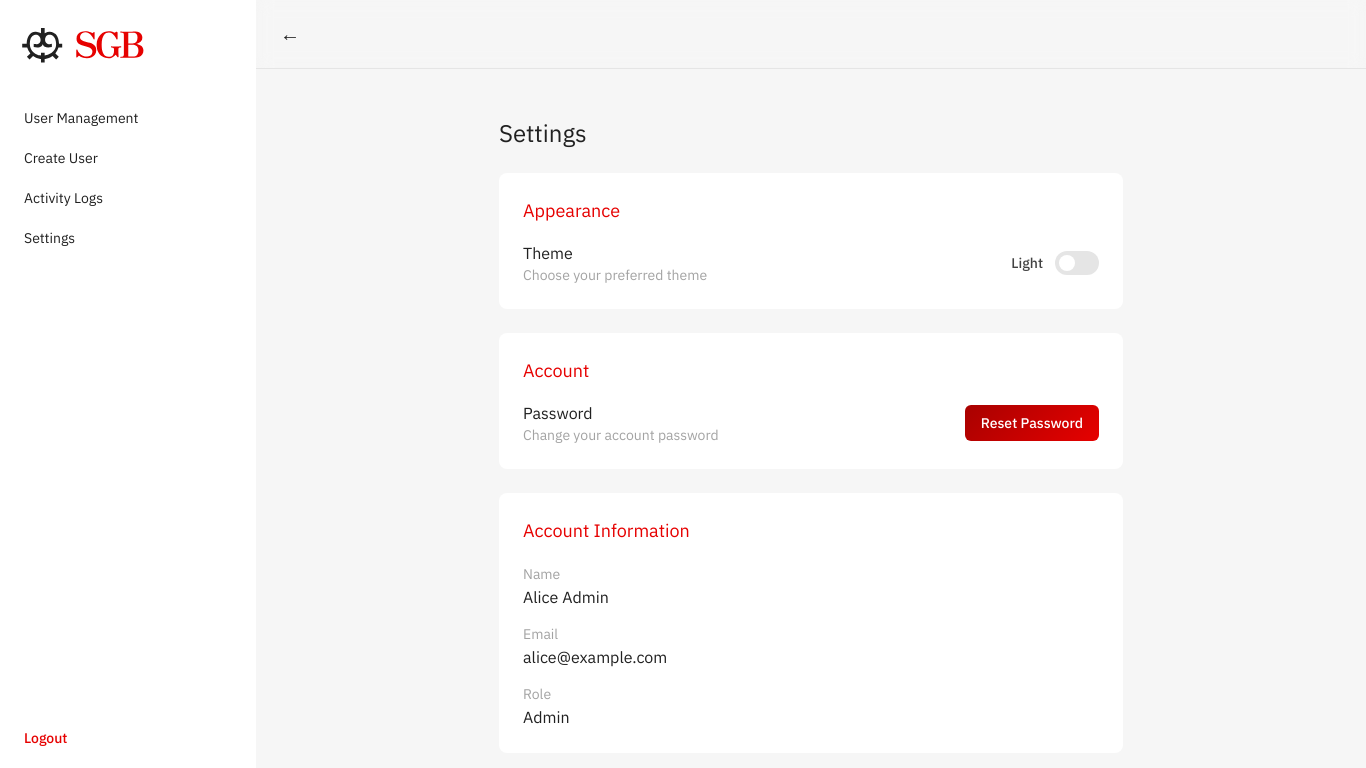
Test case: SettingsPage › toggles theme when theme toggle button is clicked
The image size is (1366, 768).
Expected: the text "Light" is shown, [1011,253,1043,273]
Click the 2nd button at x=1077, y=263, box [1055,251,1099,275]
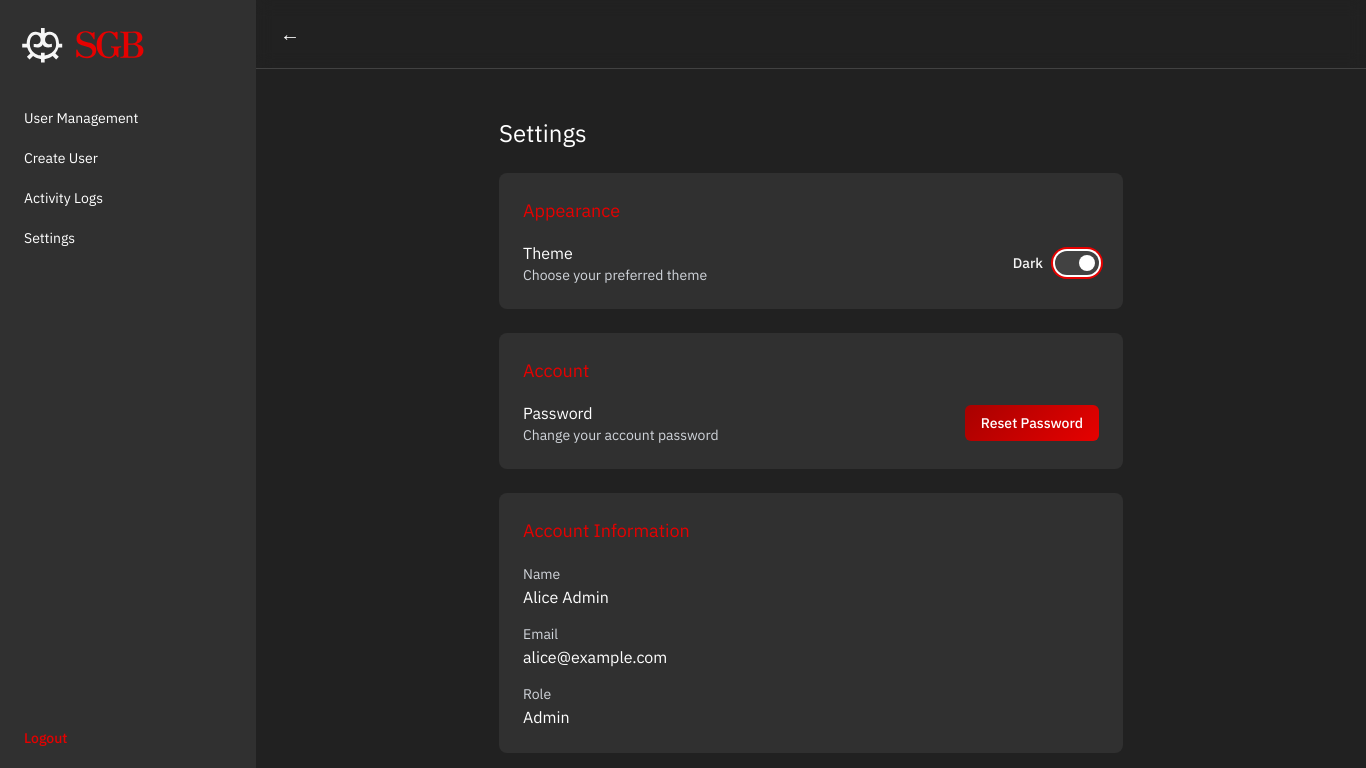
Now the text "Dark" is shown, box [1013,253,1043,273]
